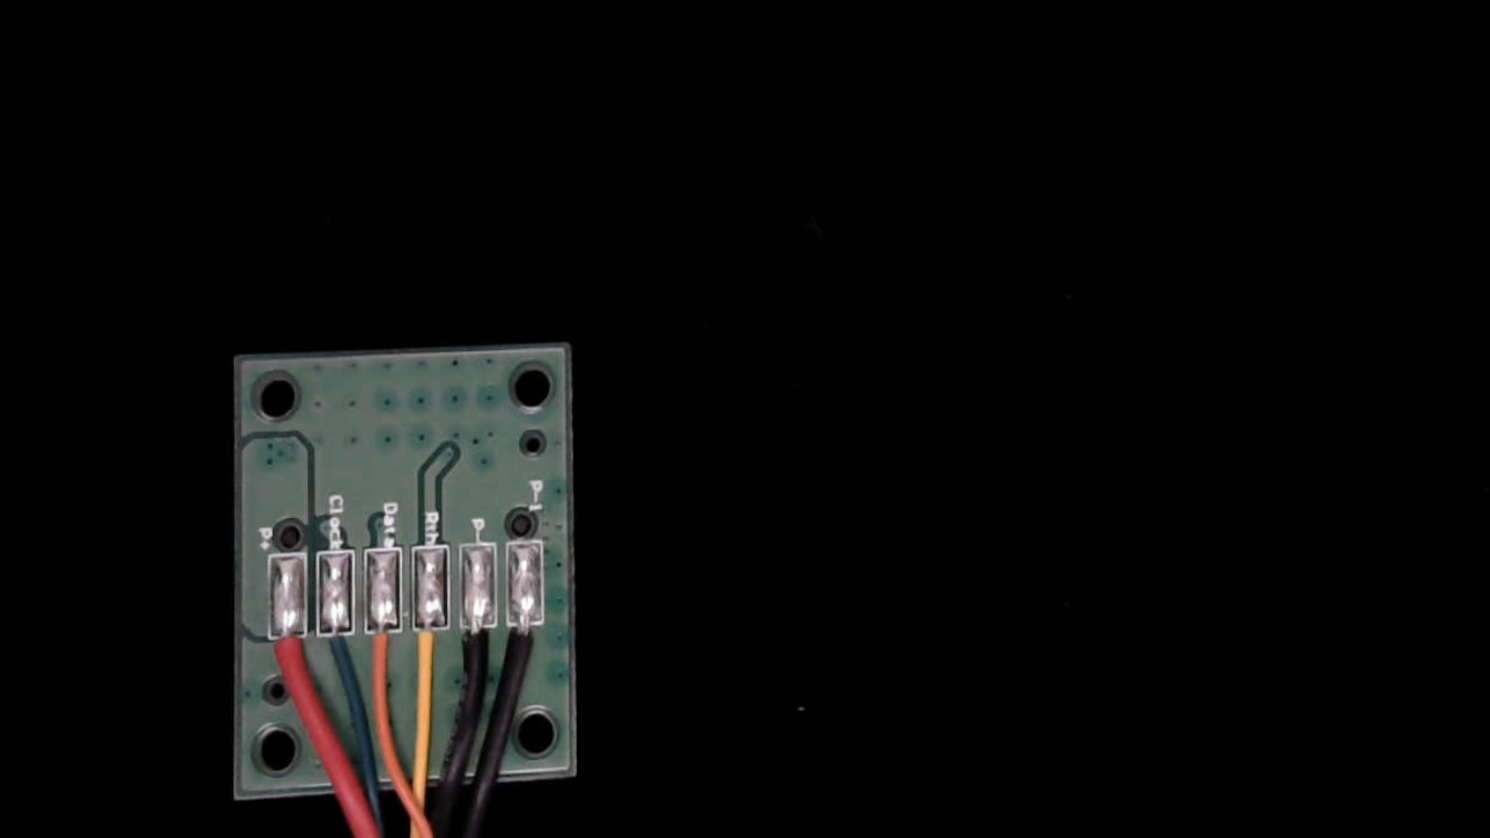Black: (461, 599, 497, 695)
Black1: (508, 601, 544, 682)
Green: (317, 608, 352, 687)
Orange: (366, 602, 402, 689)
Red: (270, 607, 309, 698)
Yellow: (414, 601, 449, 699)
